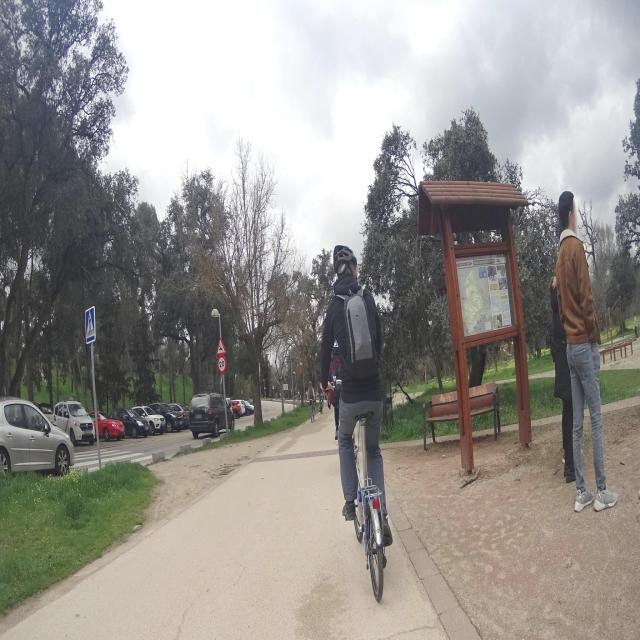bike: (328, 360, 394, 604)
car: (0, 396, 75, 478), (189, 391, 233, 438), (52, 400, 95, 445), (87, 408, 125, 442), (110, 406, 148, 438), (130, 404, 164, 434), (167, 402, 190, 430), (228, 398, 245, 419), (243, 398, 255, 414)
